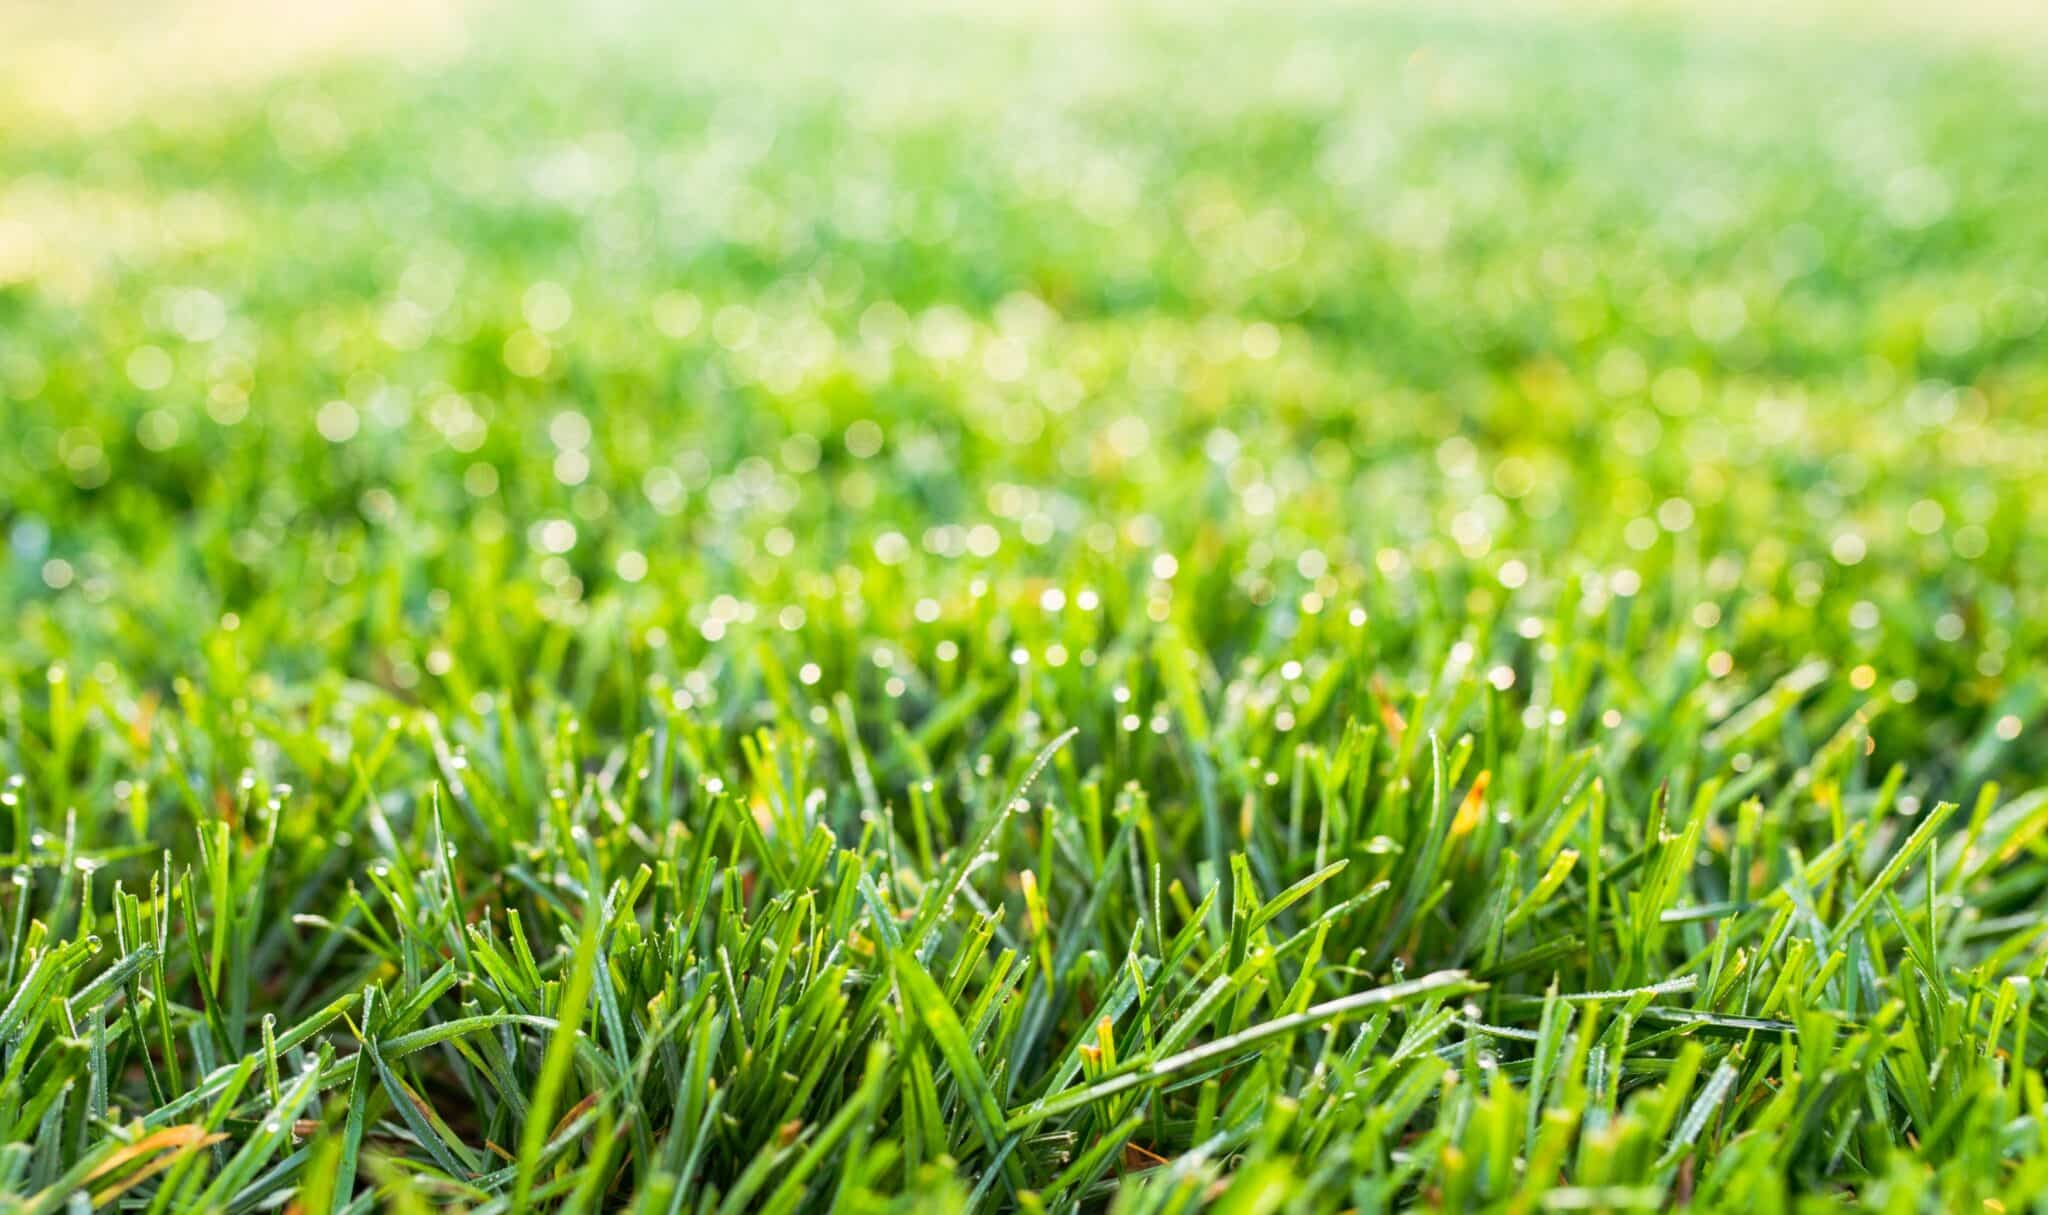grass: (1, 482, 2048, 1215)
